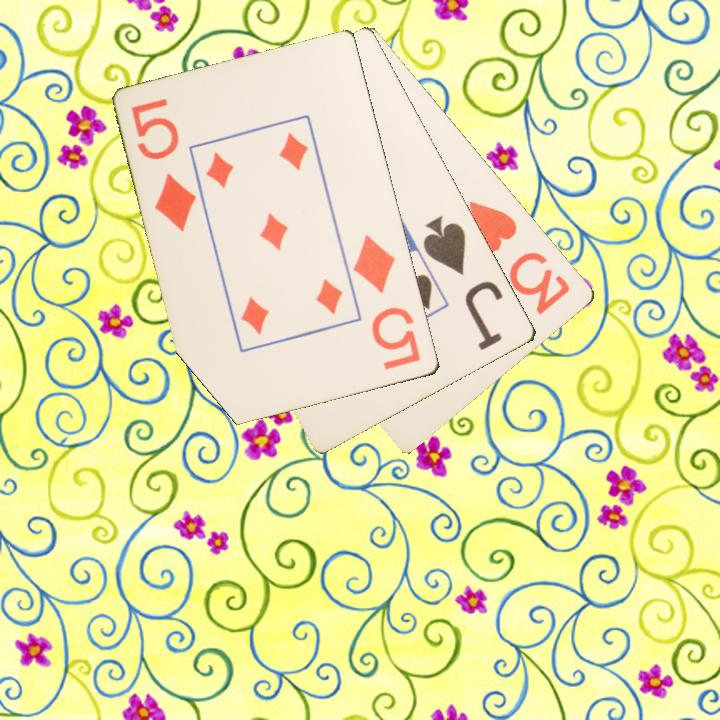3h: (465, 197, 574, 318)
5d: (350, 230, 424, 373), (128, 95, 200, 235)
Js: (420, 212, 507, 354)
